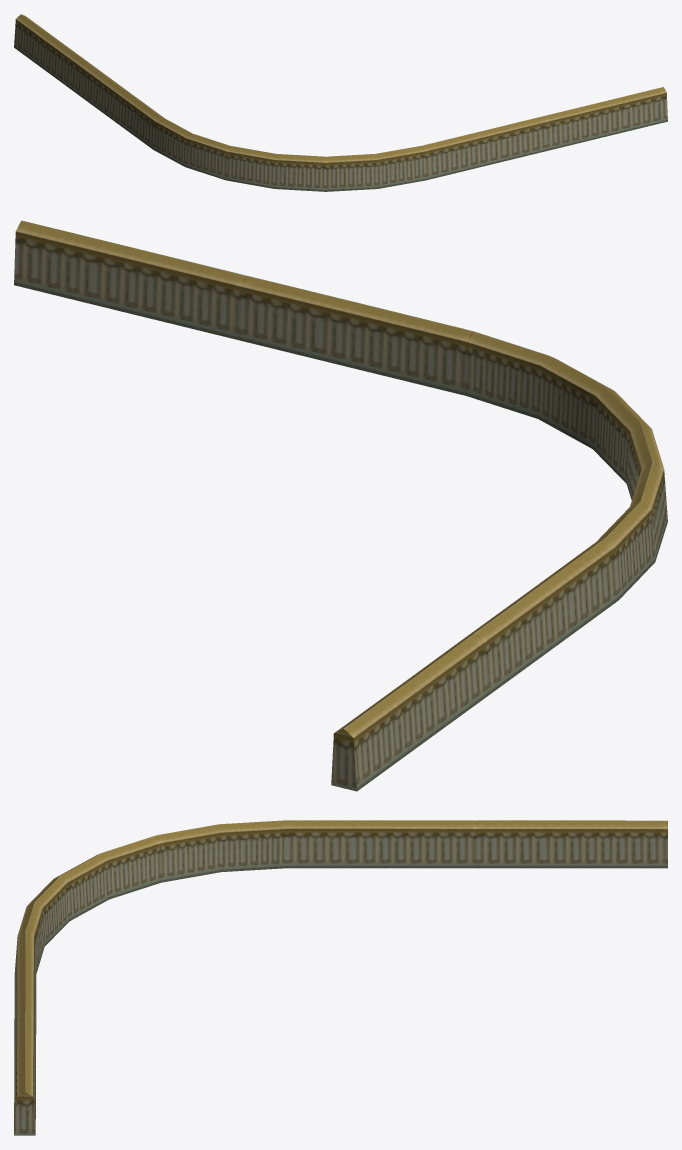
The model's file is Centercastle_Railing.FBX.
3 renders of one model, top to bottom at view 1: azimuth 30°, elevation 25°; view 2: azimuth 150°, elevation 25°; view 3: azimuth 270°, elevation 25°, orthographic. The views are drawn at different scales.
Parts seen in each view (by area): view 1: Centercastle_Railing; view 2: Centercastle_Railing; view 3: Centercastle_Railing.
Part boxes in pixels (x1,y1,x2,y2): Centercastle_Railing: (14, 14, 667, 191); Centercastle_Railing: (14, 220, 667, 791); Centercastle_Railing: (14, 820, 667, 1135).
Bounding box in the file's own units: 680 × 49.79 × 679.
